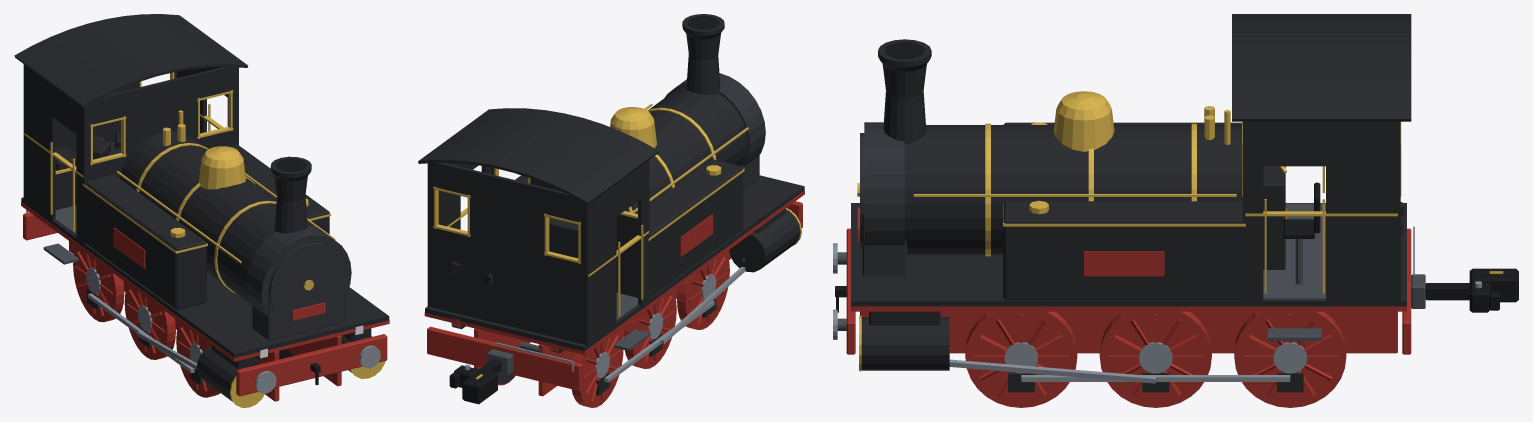
Rendered from locomotive_vapeur.glb.
3 renders of one model, left to right at view 1: azimuth 30°, elevation 25°; view 2: azimuth 150°, elevation 25°; view 3: azimuth 270°, elevation 25°, orthographic. The views are drawn at different scales.
Parts seen in each view (by area): view 1: pieces_loco_noir.002, pieces_fonte.004, pieces_loco_rouge.002, pieces_laiton.002, cheminee.002, roues_ar_loco_rouge.002, roues_motrices_loco_rouge.002, pieces_acier.004, dome.002, roues_av_loco_rouge.002, pieces_acier_sombre.004, pieces_charbon.002 (+1 smaller); view 2: pieces_loco_noir.002, pieces_loco_rouge.002, pieces_laiton.002, cheminee.002, pieces_fonte.004, roues_av_loco_rouge.002, roues_ar_loco_rouge.002, roues_motrices_loco_rouge.002, pieces_acier.004, attelage_ar_noir.002, dome.002, pieces_acier_sombre.004 (+2 smaller); view 3: pieces_loco_noir.002, pieces_loco_rouge.002, roues_motrices_loco_rouge.002, roues_av_loco_rouge.002, roues_ar_loco_rouge.002, pieces_fonte.004, pieces_laiton.002, pieces_acier_sombre.004, cheminee.002, pieces_acier.004, dome.002, attelage_ar_noir.002 (+4 smaller).
Part boxes in pixels (<box>): pieces_loco_noir.002: <box>14,14,389,401</box>; pieces_fonte.004: <box>246,225,351,340</box>; pieces_loco_rouge.002: <box>21,202,389,401</box>; pieces_laiton.002: <box>24,72,385,407</box>; cheminee.002: <box>270,156,311,233</box>; roues_ar_loco_rouge.002: <box>73,246,124,322</box>; roues_motrices_loco_rouge.002: <box>124,284,175,359</box>; pieces_acier.004: <box>26,210,380,393</box>; dome.002: <box>198,146,245,189</box>; roues_av_loco_rouge.002: <box>176,322,219,397</box>; pieces_acier_sombre.004: <box>43,205,78,264</box>; pieces_charbon.002: <box>55,131,120,170</box>; pieces_loco_noir.002: <box>418,86,804,352</box>; pieces_loco_rouge.002: <box>424,190,804,396</box>; pieces_laiton.002: <box>433,104,801,316</box>; cheminee.002: <box>682,14,724,94</box>; pieces_fonte.004: <box>665,73,765,191</box>; roues_av_loco_rouge.002: <box>677,252,729,329</box>; roues_ar_loco_rouge.002: <box>498,330,623,407</box>; roues_motrices_loco_rouge.002: <box>624,291,676,368</box>; pieces_acier.004: <box>495,258,745,382</box>; attelage_ar_noir.002: <box>449,359,501,404</box>; dome.002: <box>610,107,656,148</box>; pieces_acier_sombre.004: <box>614,293,650,350</box>; pieces_loco_noir.002: <box>851,14,1411,370</box>; pieces_loco_rouge.002: <box>846,207,1411,354</box>; roues_motrices_loco_rouge.002: <box>1099,311,1211,407</box>; roues_av_loco_rouge.002: <box>965,311,1077,407</box>; roues_ar_loco_rouge.002: <box>1234,311,1346,407</box>; pieces_fonte.004: <box>860,122,906,276</box>; pieces_laiton.002: <box>857,106,1401,371</box>; pieces_acier_sombre.004: <box>837,203,1325,340</box>; cheminee.002: <box>878,39,931,143</box>; pieces_acier.004: <box>833,226,1414,383</box>; dome.002: <box>1053,91,1114,151</box>; attelage_ar_noir.002: <box>1425,268,1518,312</box>.
Size of the model in its own units: 2.95 by 4.05 by 7.65.
